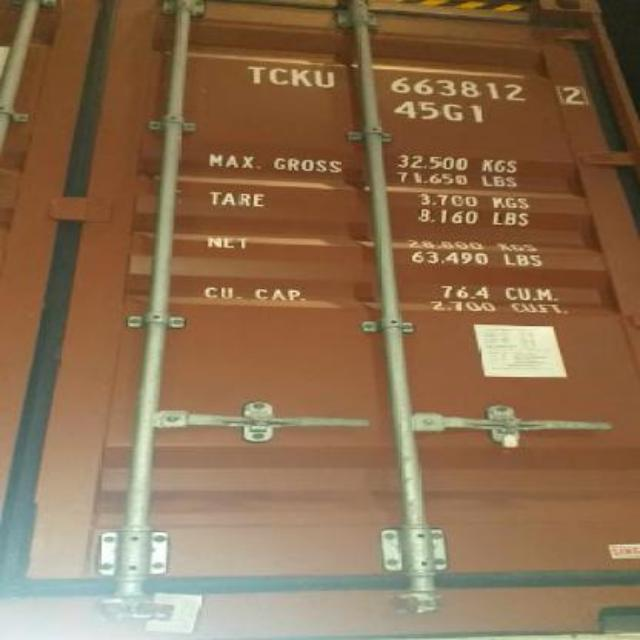1: (484, 75, 504, 102)
2: (502, 74, 538, 104), (560, 85, 592, 105)
3: (436, 75, 460, 101)
6: (388, 72, 412, 98), (416, 73, 438, 97)
8: (458, 75, 484, 99)
C: (268, 64, 290, 92)
K: (292, 64, 314, 92)
T: (248, 62, 268, 88)
U: (314, 64, 342, 92)
